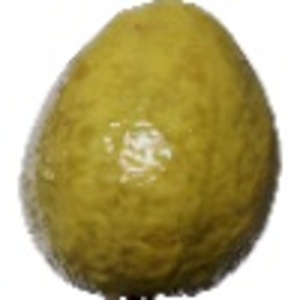goiaba: (10, 3, 289, 292)
